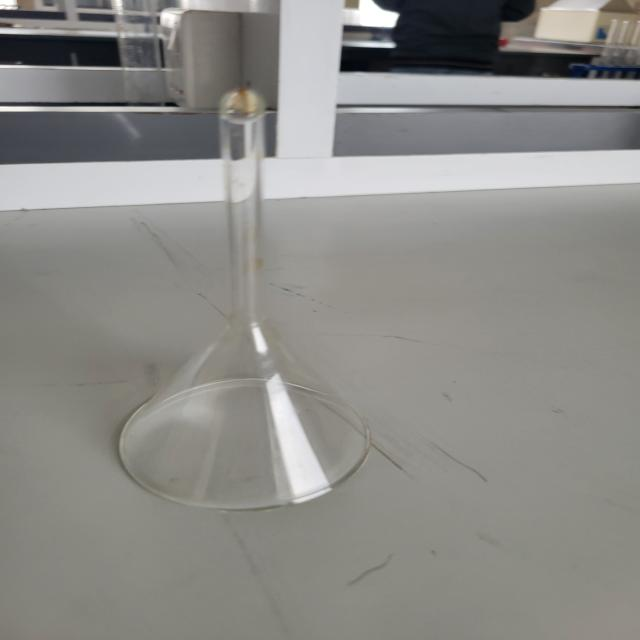Funnel: (72, 78, 412, 553)
